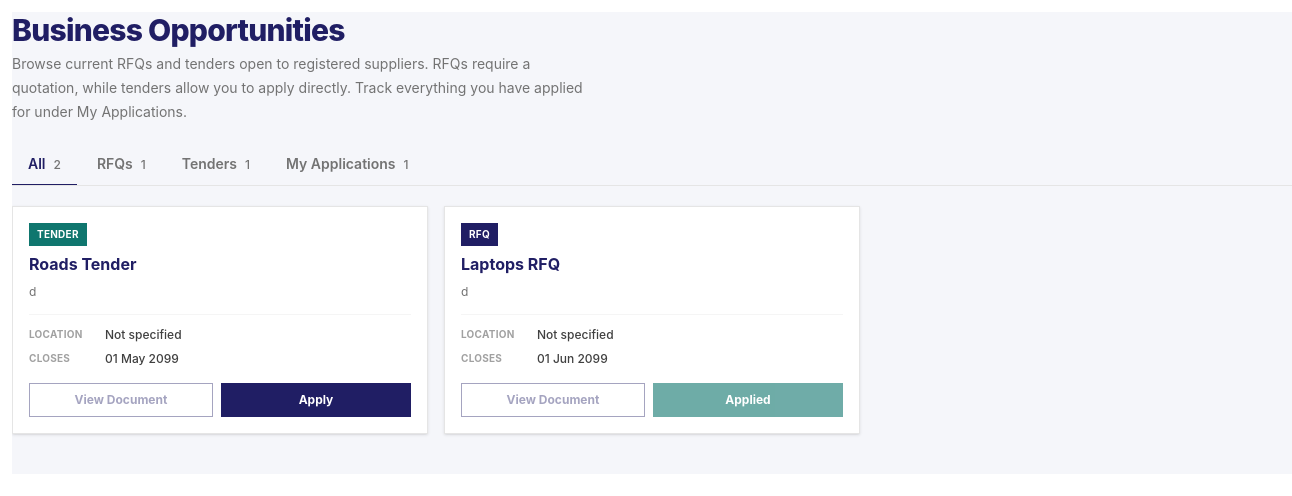
Test: Opportunities page › My Applications tab lists applications and shows count
Check: the heading "Laptops RFQ" is shown, box [461,254,560,274]
Step 1. Click the tab "My Applications1" → coordinates (347, 165), box [270,144,424,186]
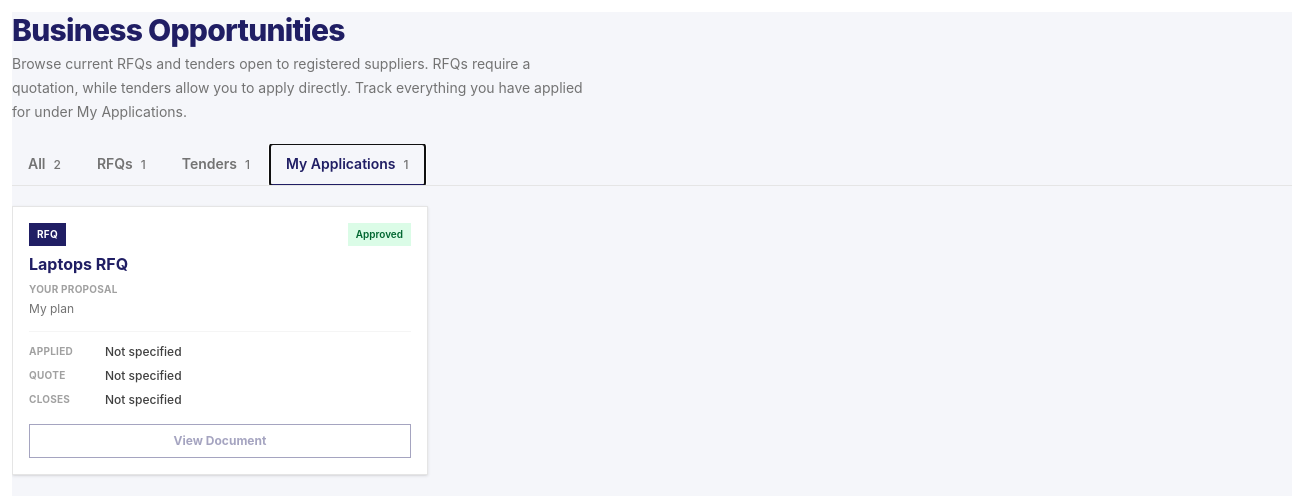
Check: the text "Your proposal" is shown, box [29,283,118,295]
Check: the text "Approved" is shown, box [348,223,411,246]
